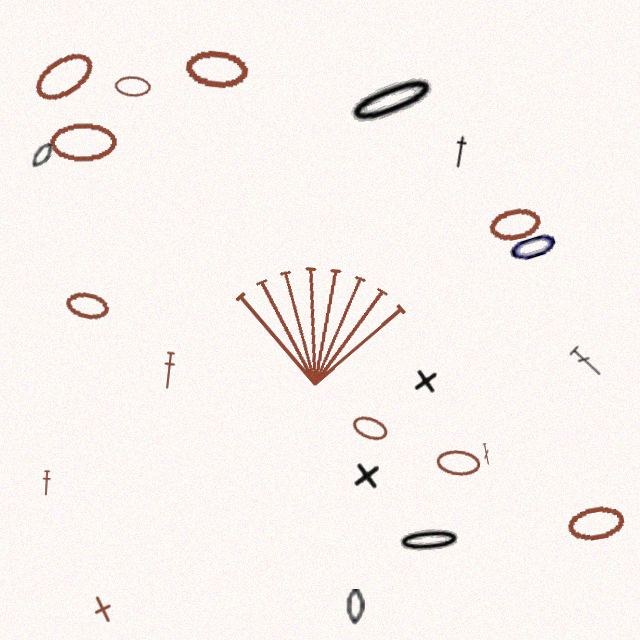chain: (340, 65, 445, 137), (27, 43, 102, 110), (501, 219, 566, 273), (183, 47, 251, 92), (49, 122, 118, 163), (565, 502, 626, 544), (486, 204, 543, 244), (395, 525, 464, 557), (63, 288, 112, 324), (349, 412, 391, 445), (435, 448, 481, 478), (27, 140, 56, 172), (114, 75, 151, 98), (346, 589, 365, 625)
double: (569, 344, 605, 379), (481, 443, 492, 465)
fan: (224, 245, 415, 394)
half_double: (448, 134, 473, 170), (160, 351, 178, 390), (41, 470, 52, 496)
single: (83, 589, 123, 629), (352, 459, 382, 491), (412, 366, 440, 395)
